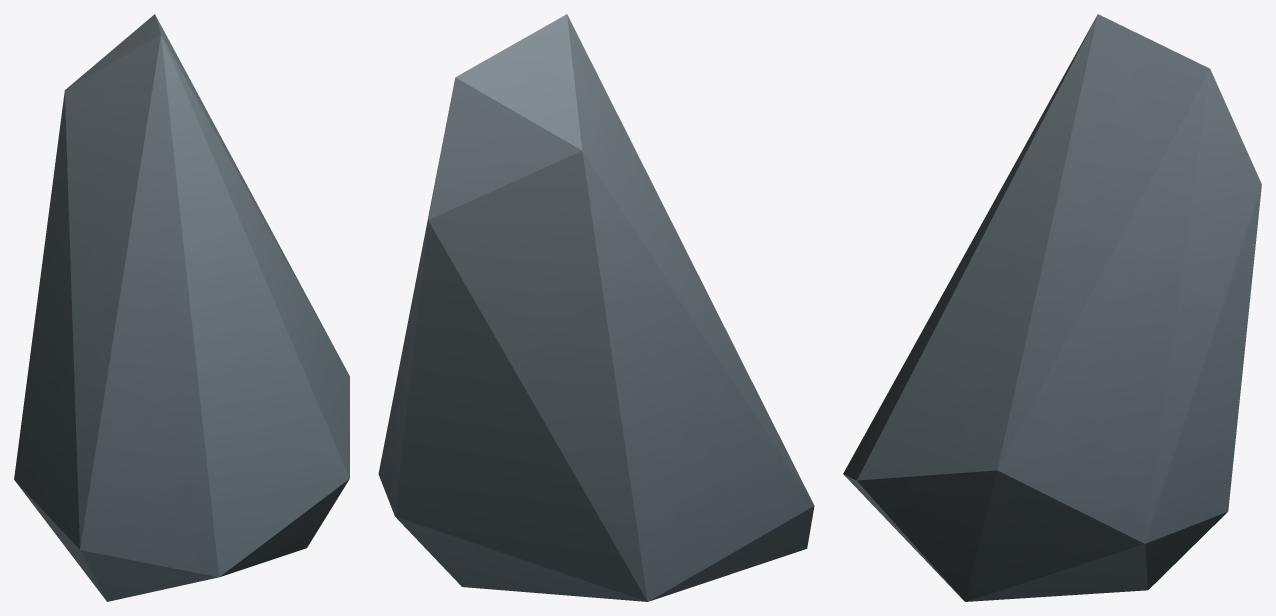
File: rock1.glb
3 views of the same model, side by side, from view 1: azimuth 30°, elevation 25°; view 2: azimuth 150°, elevation 25°; view 3: azimuth 270°, elevation 25° (orthographic). The views are drawn at different scales.
Parts seen in each view (by area): view 1: rock1; view 2: rock1; view 3: rock1.
Part boxes in pixels (x1,y1,x2,y2): rock1: [14, 14, 349, 601]; rock1: [378, 14, 814, 601]; rock1: [843, 14, 1261, 601].
Bounding box in the file's own units: 2.17 × 3.51 × 2.46.
1 material, 1 textured.
